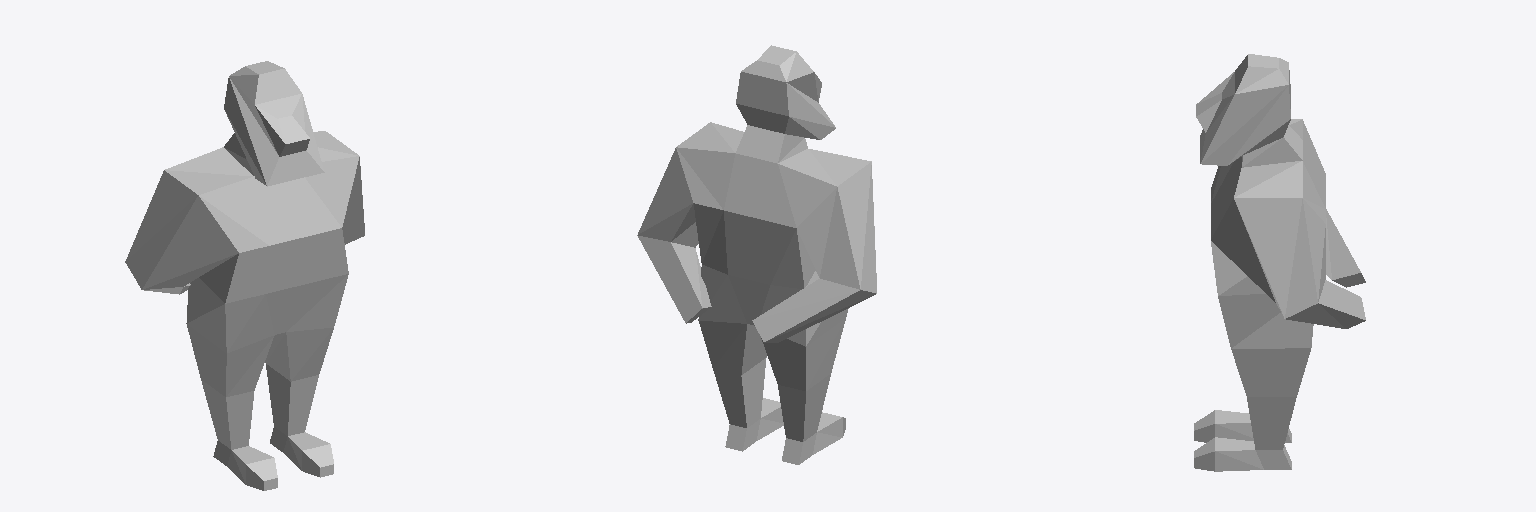
Rendered from BossMan.obj.
3 views of the same model, side by side, from view 1: azimuth 30°, elevation 25°; view 2: azimuth 150°, elevation 25°; view 3: azimuth 270°, elevation 25° (orthographic).
Parts seen in each view (by area): view 1: pCube1; view 2: pCube1; view 3: pCube1.
Part boxes in pixels (left/top/right/bottom): pCube1: left=125, top=61, right=364, bottom=490; pCube1: left=637, top=45, right=876, bottom=464; pCube1: left=1194, top=54, right=1365, bottom=471.
Size of the model in its own units: 5.26 by 8.82 by 3.52.